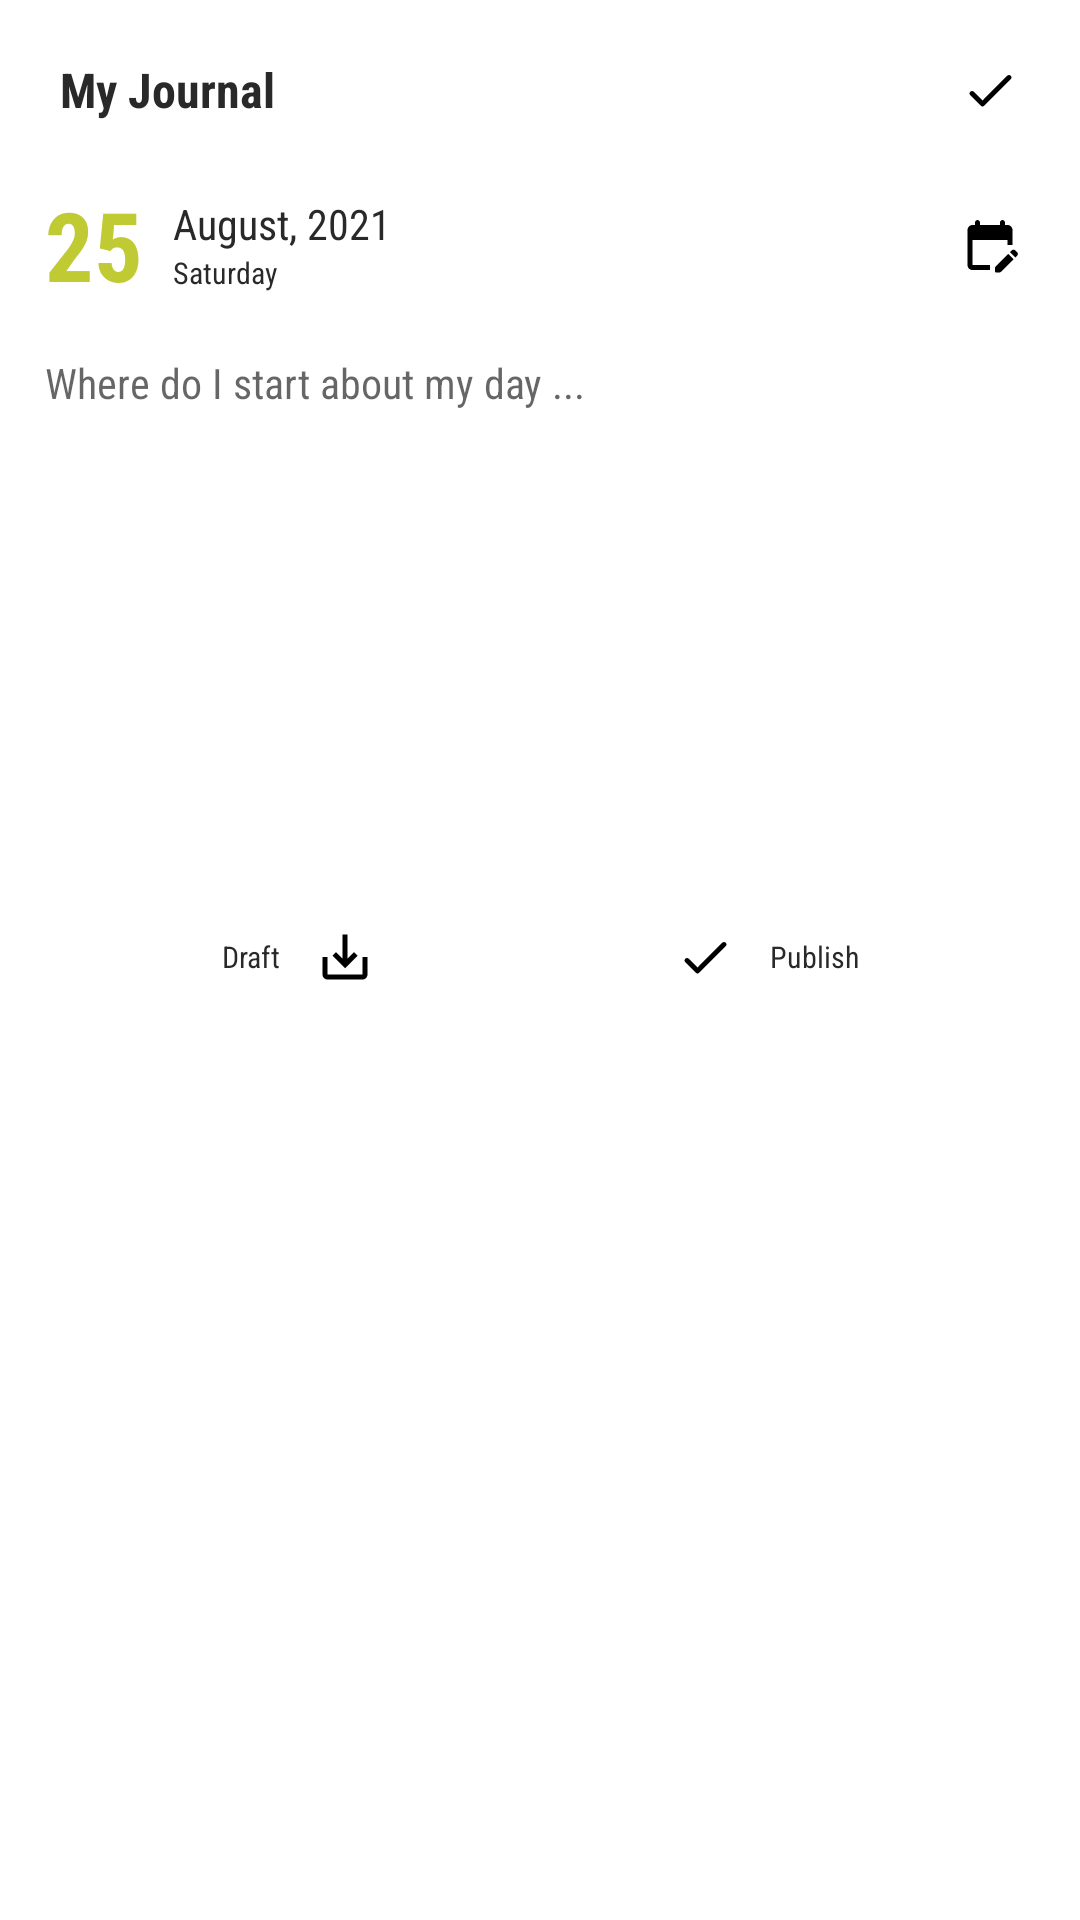

Named icons in this screenshot (1080*1920) and their bounding boxes, rect(x1, y1, x2, y2):
done: rect(969, 75, 1012, 107)
edit calendar: rect(967, 220, 1018, 273)
